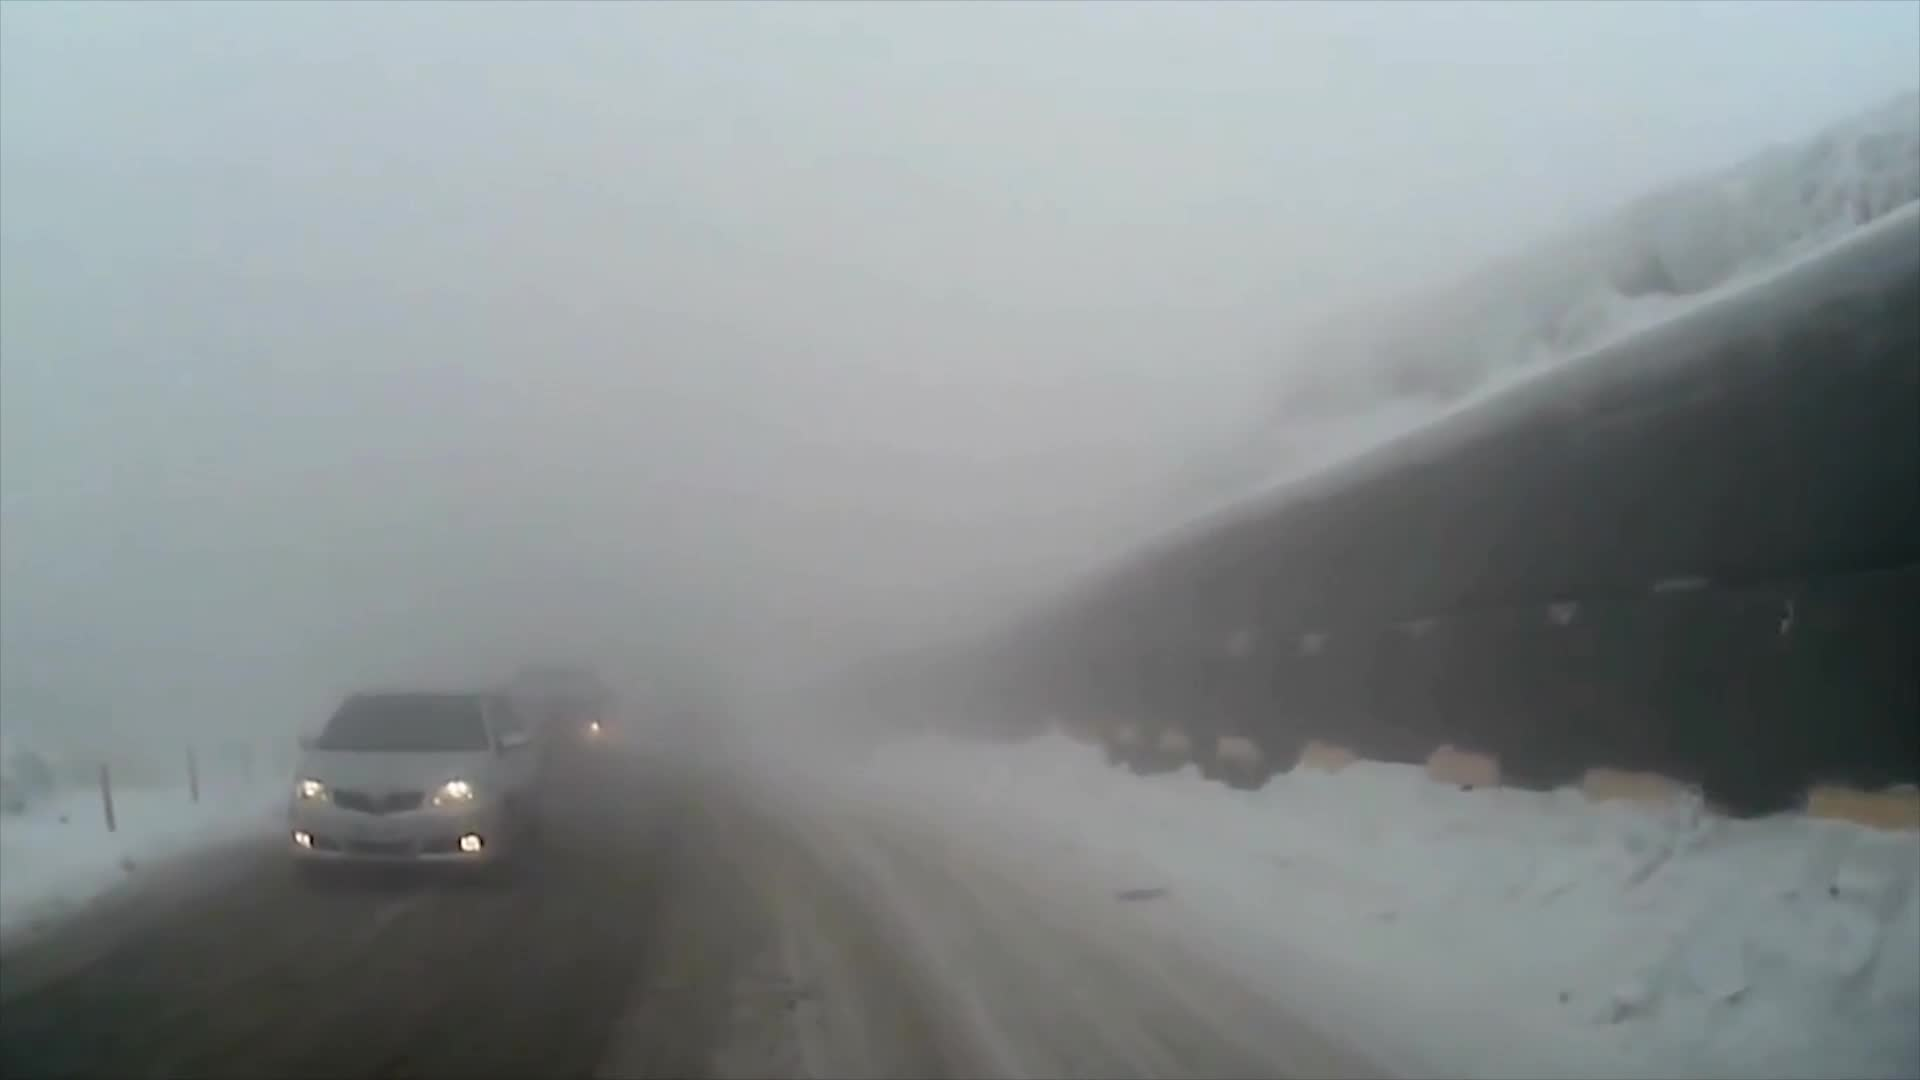vehicle: (280, 680, 545, 886)
